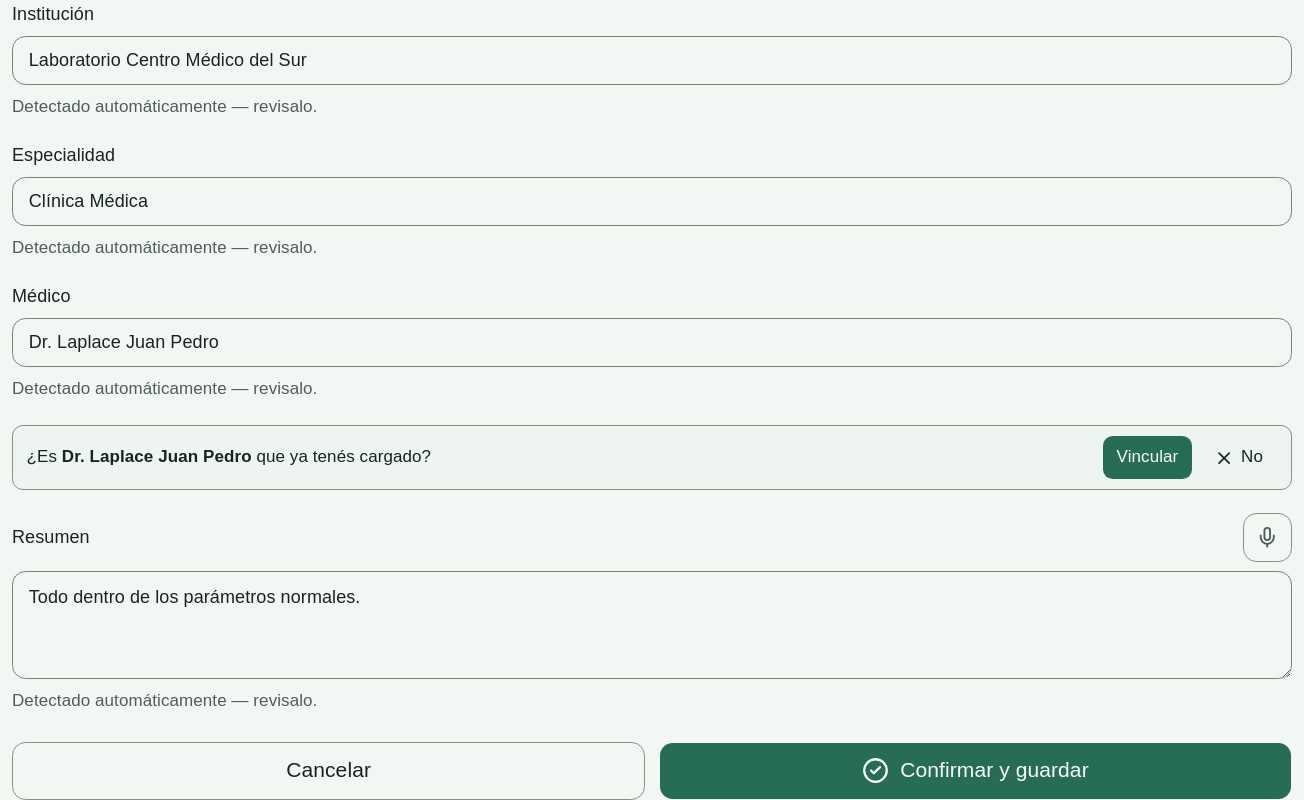
Test: FormularioRevision — «Vincular» tiene que hacer algo visible › «Quitar» deshace el vínculo y vacía el campo oculto
The width and height of the screenshot is (1304, 800).
(page scrolled)
Step 1. Click the button "Vincular" → click(1148, 458), box x1=1102 y1=435 x2=1193 y2=480
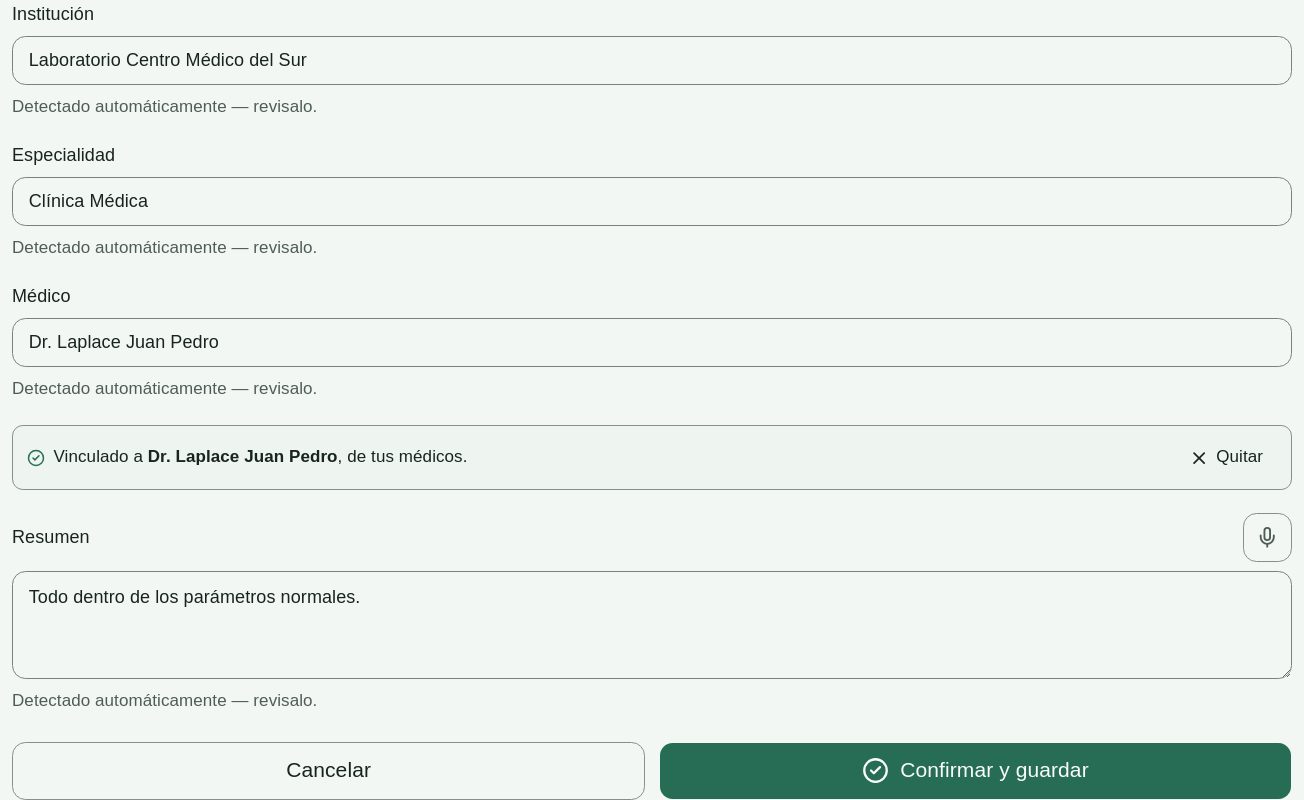
Step 2. Click the button "Quitar" → click(1226, 458), box x1=1175 y1=435 x2=1278 y2=480
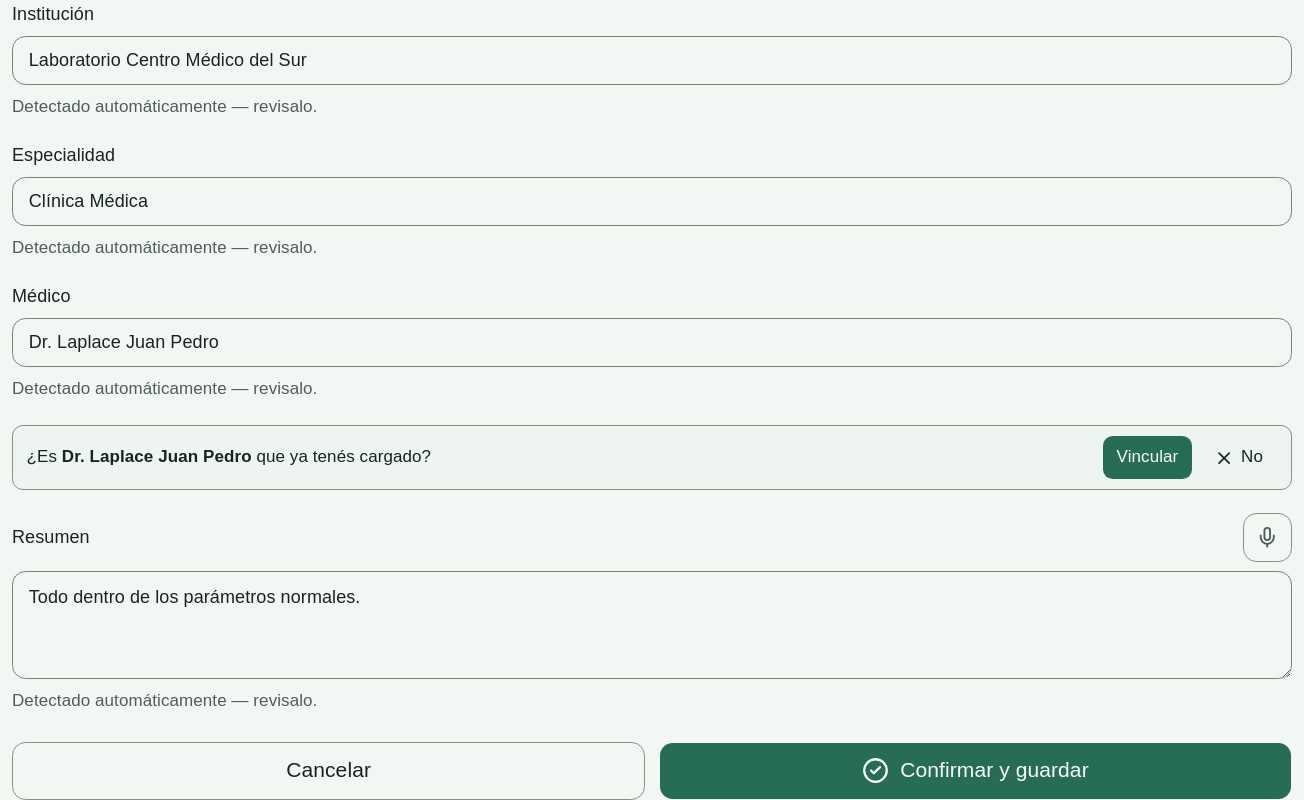
expect the text "Vinculado a" is gone: met
